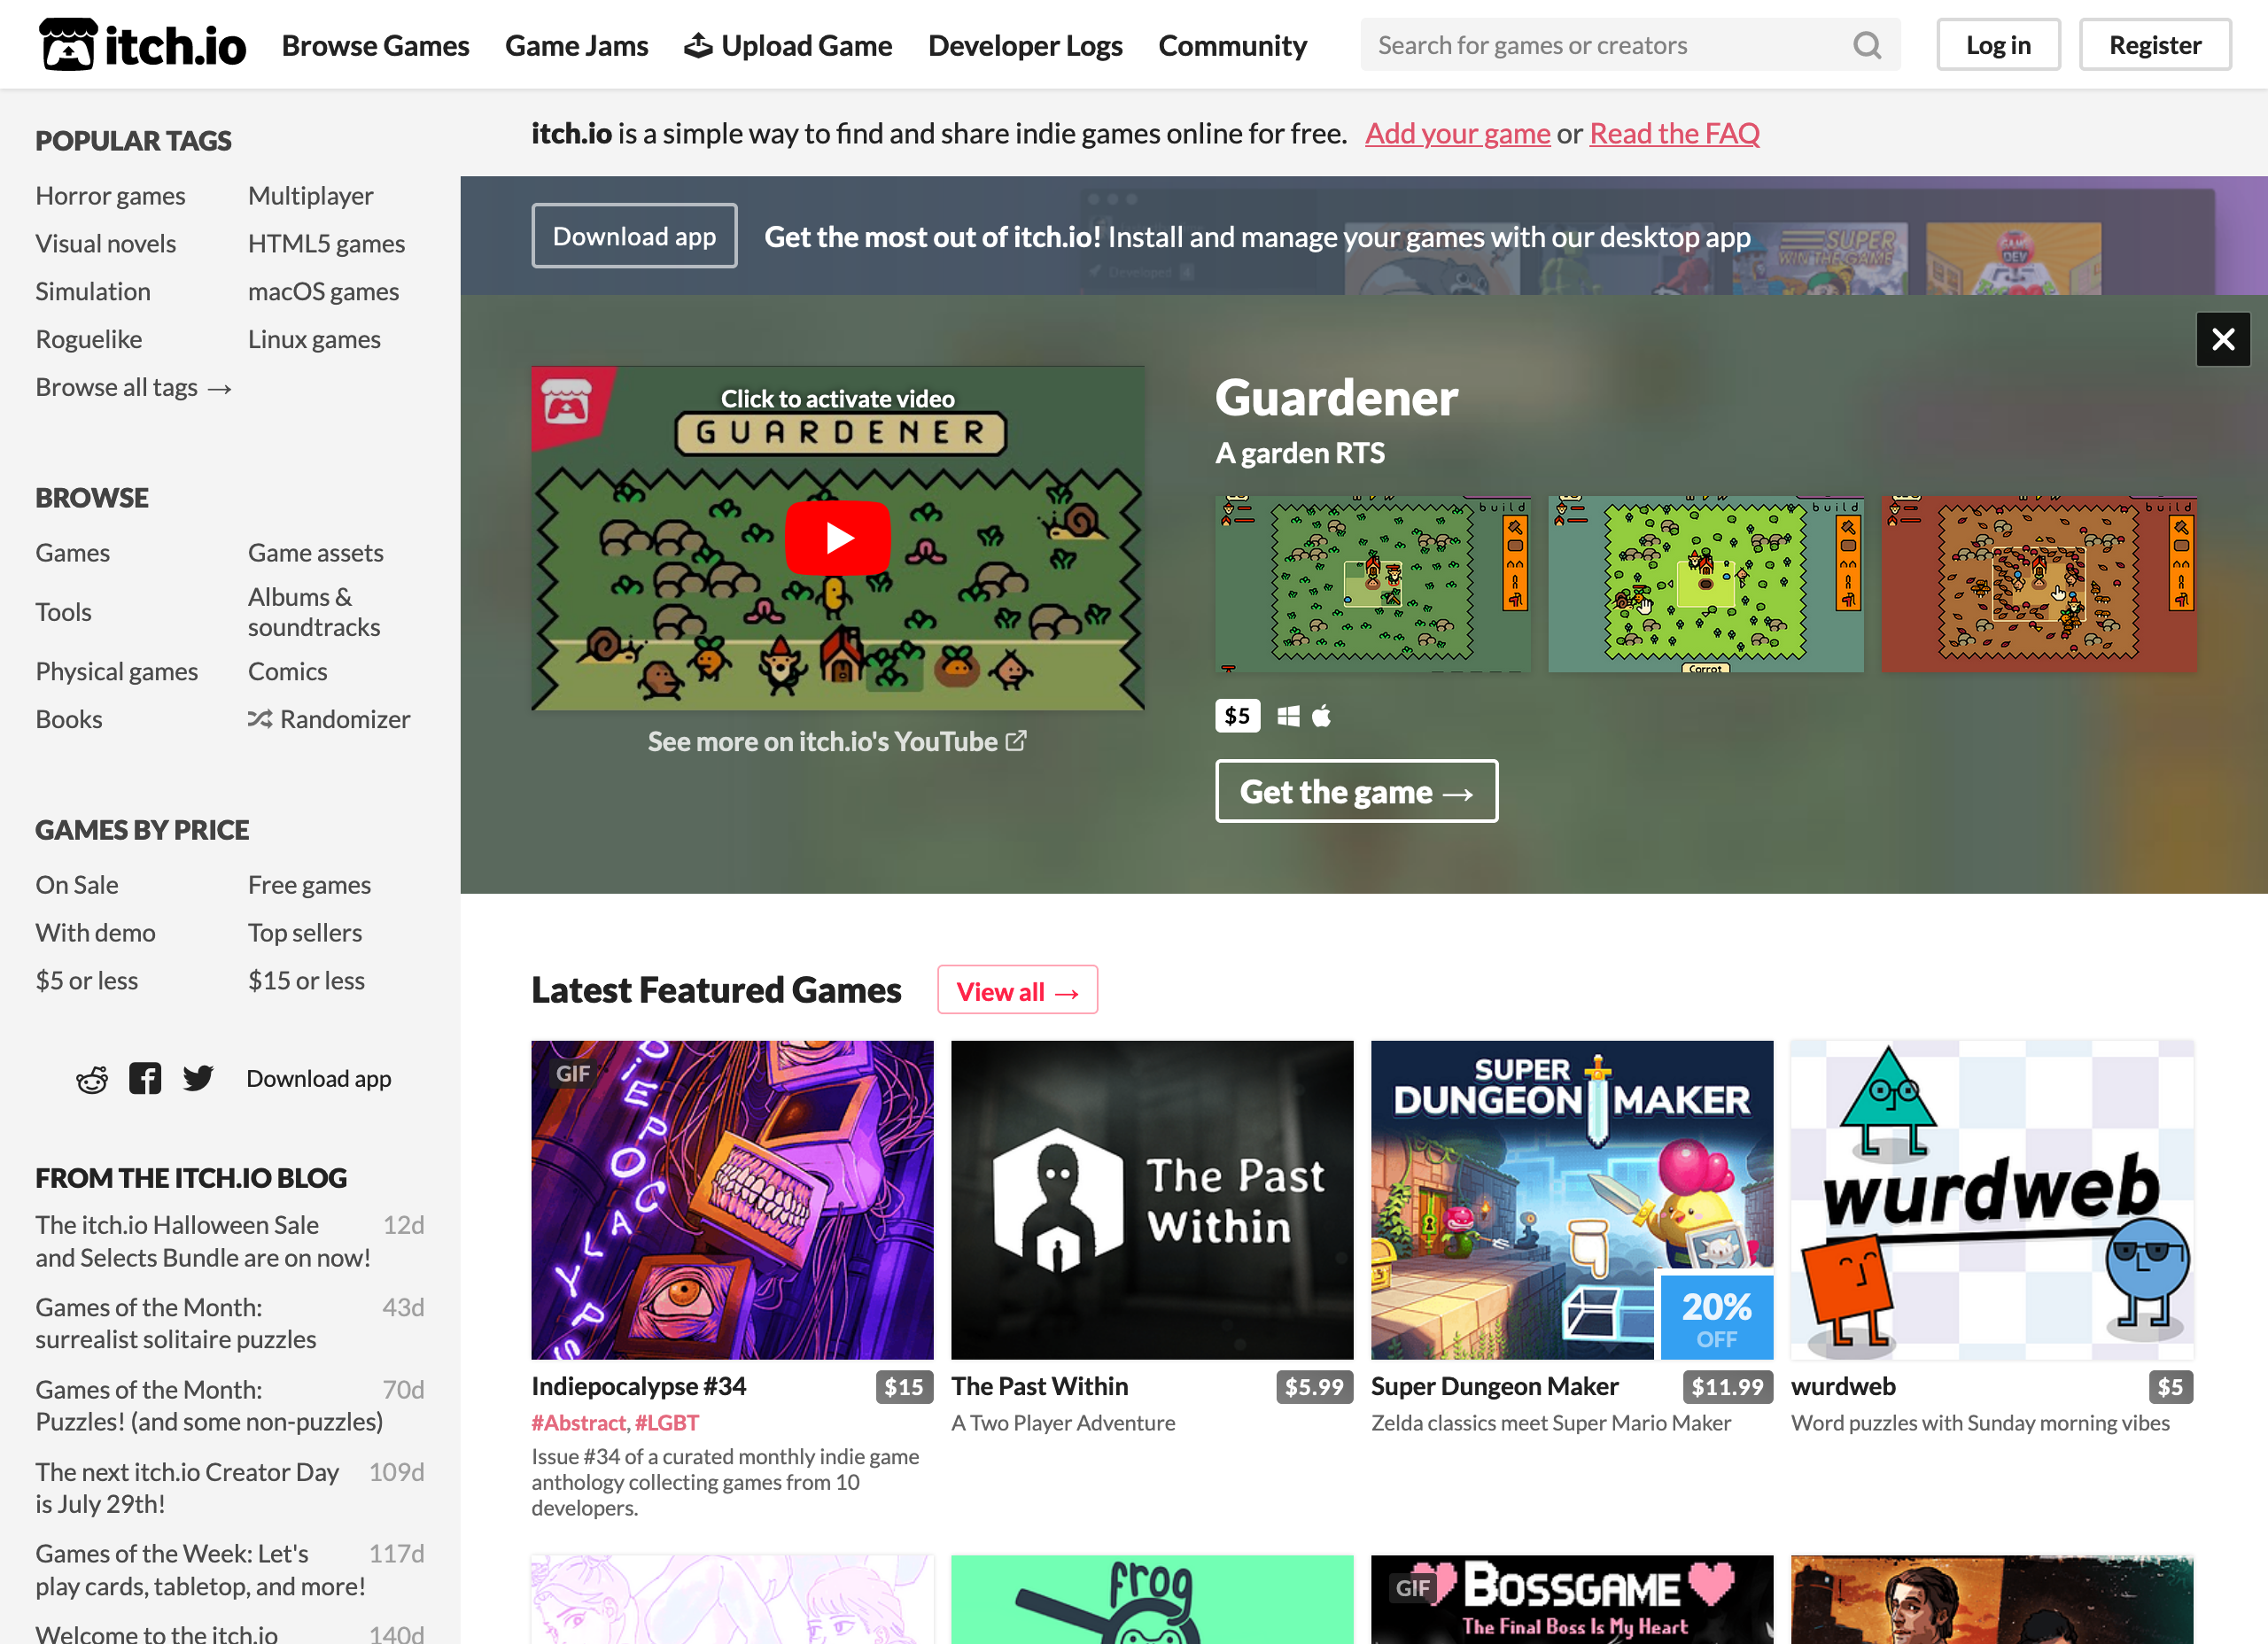Login: (1928, 14, 2071, 77)
